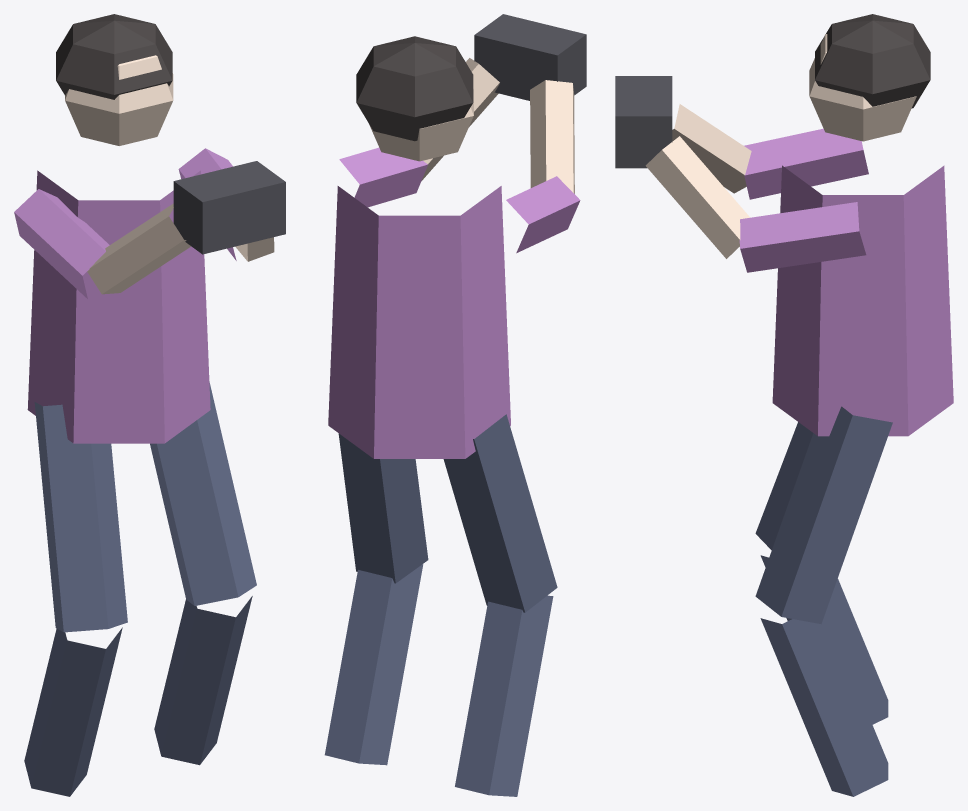
File: person_photo.glb
3 renders of one model, left to right at view 1: azimuth 30°, elevation 25°; view 2: azimuth 150°, elevation 25°; view 3: azimuth 270°, elevation 25°, orthographic.
Visible parts, largest first — view 1: person_photo; view 2: person_photo; view 3: person_photo.
Boxes of the visible parts, x1,y1,x2,y2 form: person_photo: [14, 14, 285, 796]; person_photo: [324, 14, 586, 796]; person_photo: [615, 14, 953, 796].
Bounding box in the file's own units: 0.5138 × 1.71 × 0.71.
